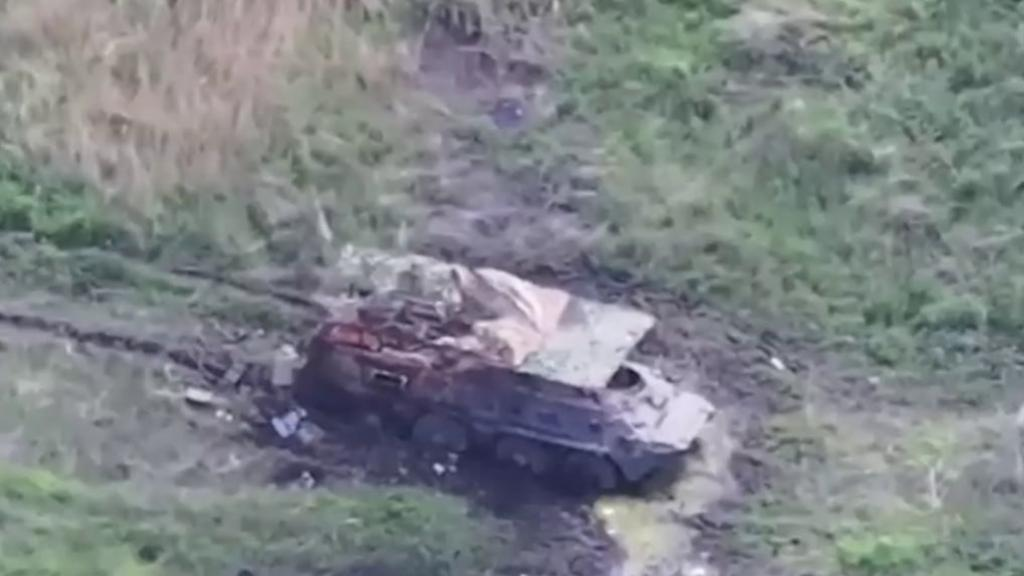APC-IFV: (303, 248, 715, 493)
